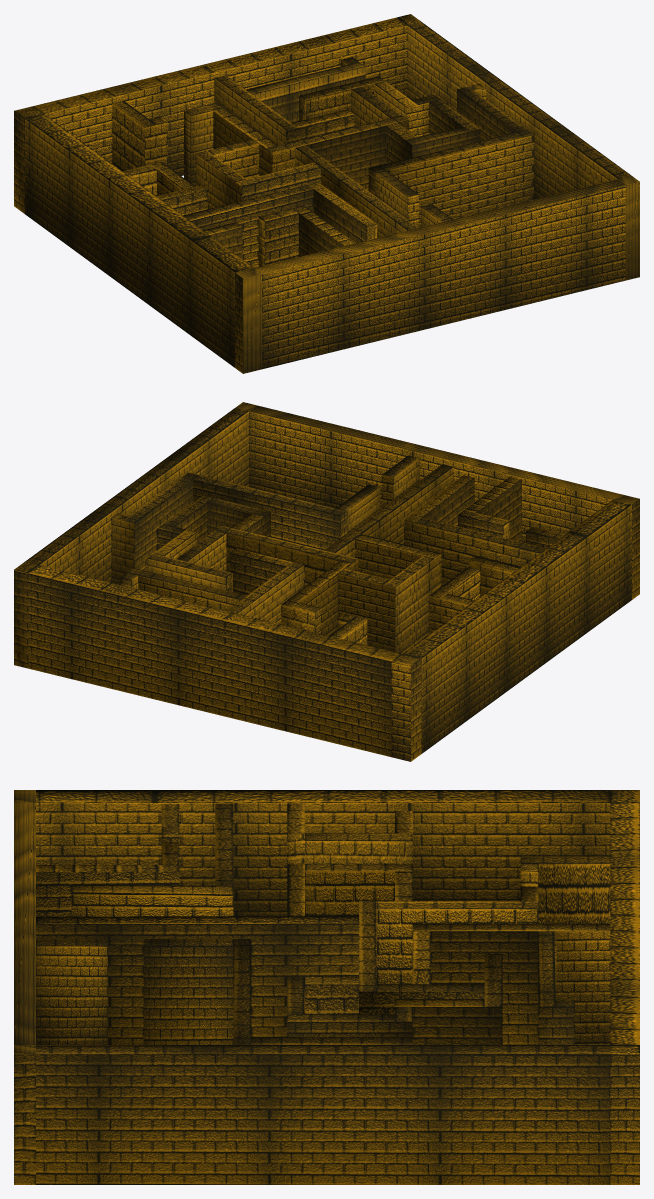
File: MainLevel.fbx
3 views of the same model, one above another, from view 1: azimuth 30°, elevation 25°; view 2: azimuth 150°, elevation 25°; view 3: azimuth 270°, elevation 25° (orthographic). The views are drawn at different scales.
Parts seen in each view (by area): view 1: Plane, Plane_002, Plane_037, Plane_020, Plane_007, Plane_011, Plane_023, Plane_021, Plane_015, Plane_004, Plane_006, Plane_012 (+20 smaller); view 2: Plane, Plane_002, Plane_037, Plane_007, Plane_012, Plane_016, Plane_011, Plane_020, Plane_036, Plane_021, Plane_008, Plane_023 (+20 smaller); view 3: Plane, Plane_011, Plane_021, Plane_038, Plane_039, Plane_019, Plane_002, Plane_006, Plane_015, Plane_012, Plane_028, Plane_003 (+16 smaller).
Boxes of the visible parts, x1=… form: Plane: x1=14, y1=14, x2=631, y2=373; Plane_002: x1=235, y1=176, x2=639, y2=373; Plane_037: x1=368, y1=130, x2=533, y2=227; Plane_020: x1=266, y1=115, x2=407, y2=190; Plane_007: x1=183, y1=185, x2=313, y2=267; Plane_011: x1=295, y1=145, x2=418, y2=237; Plane_023: x1=245, y1=62, x2=365, y2=122; Plane_021: x1=214, y1=75, x2=297, y2=145; Plane_015: x1=112, y1=100, x2=155, y2=171; Plane_004: x1=258, y1=208, x2=298, y2=266; Plane_006: x1=307, y1=182, x2=377, y2=243; Plane_012: x1=195, y1=151, x2=246, y2=208; Plane: x1=14, y1=408, x2=639, y2=761; Plane_002: x1=235, y1=402, x2=639, y2=543; Plane_037: x1=182, y1=472, x2=347, y2=550; Plane_007: x1=404, y1=517, x2=546, y2=586; Plane_012: x1=384, y1=554, x2=441, y2=653; Plane_016: x1=338, y1=569, x2=395, y2=651; Plane_011: x1=324, y1=464, x2=453, y2=557; Plane_020: x1=216, y1=525, x2=357, y2=586; Plane_036: x1=123, y1=477, x2=193, y2=570; Plane_021: x1=227, y1=562, x2=304, y2=623; Plane_008: x1=355, y1=534, x2=440, y2=579; Plane_023: x1=127, y1=568, x2=246, y2=610; Plane: x1=14, y1=790, x2=639, y2=1184; Plane_011: x1=36, y1=916, x2=358, y2=1044; Plane_021: x1=412, y1=923, x2=610, y2=1044; Plane_038: x1=143, y1=939, x2=233, y2=1044; Plane_039: x1=36, y1=939, x2=107, y2=1044; Plane_019: x1=377, y1=901, x2=538, y2=984; Plane_002: x1=14, y1=790, x2=35, y2=1054; Plane_006: x1=71, y1=884, x2=233, y2=916; Plane_015: x1=520, y1=856, x2=610, y2=923; Plane_012: x1=304, y1=863, x2=412, y2=916; Plane_028: x1=395, y1=999, x2=502, y2=1044; Plane_003: x1=36, y1=865, x2=179, y2=916.
Bounding box in the file's own units: 15.18 × 3.52 × 15.18.
